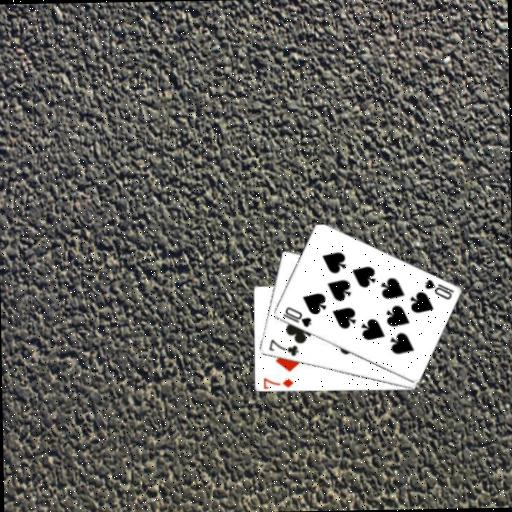10S: (279, 304, 313, 330), (421, 276, 455, 302)
7C: (266, 336, 300, 359)
7D: (260, 374, 295, 389)
